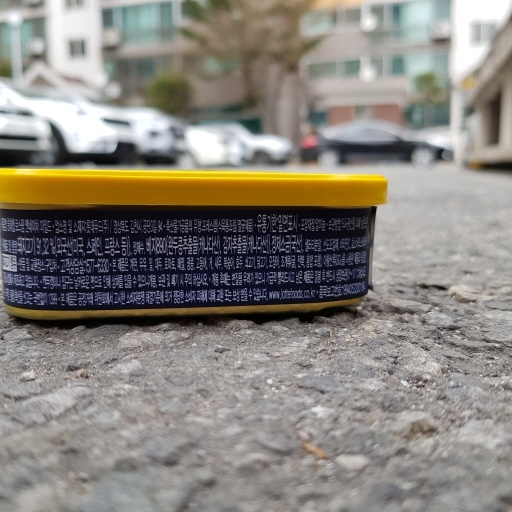Metal_2: (1, 161, 393, 327)
